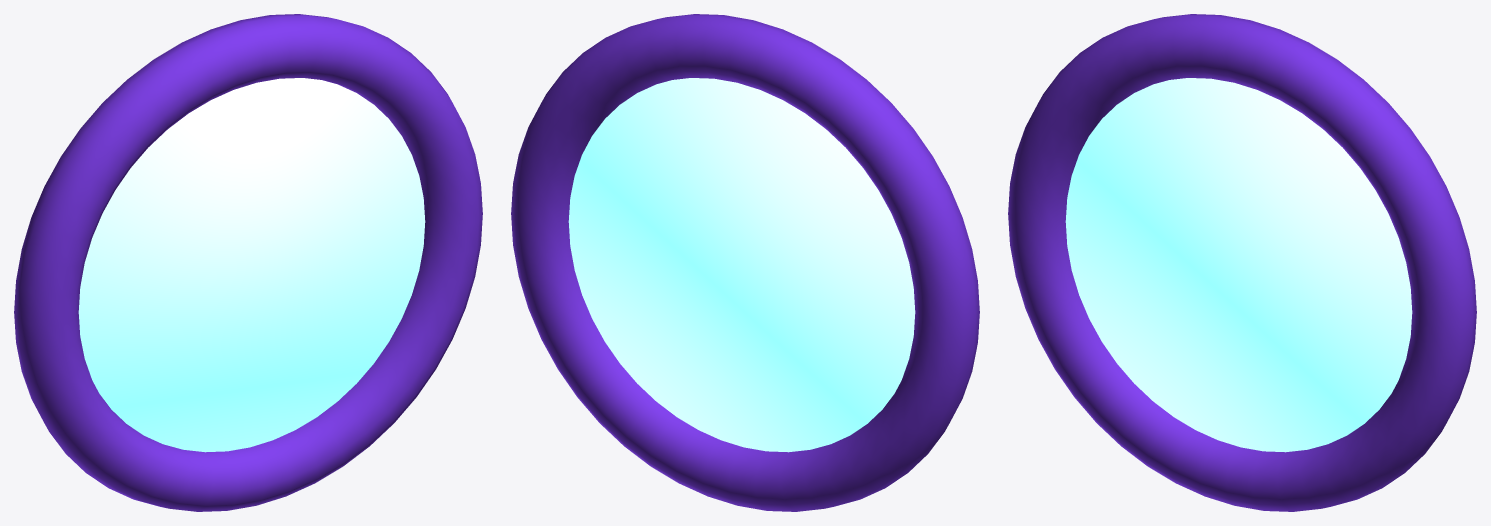
The model's file is portal.glb.
3 renders of one model, left to right at view 1: azimuth 30°, elevation 25°; view 2: azimuth 150°, elevation 25°; view 3: azimuth 330°, elevation 25°, orthographic.
Visible parts, largest first — view 1: Inside, Torus; view 2: Inside, Torus; view 3: Inside, Torus.
Part boxes in pixels (box(x1,y1,x2,y2)): Inside: box(78, 78, 425, 452); Torus: box(14, 14, 482, 511); Inside: box(568, 78, 915, 452); Torus: box(511, 14, 979, 511); Inside: box(1065, 78, 1412, 452); Torus: box(1008, 14, 1476, 511).
Size of the model in its own units: 2.96 by 2.96 by 0.36.
